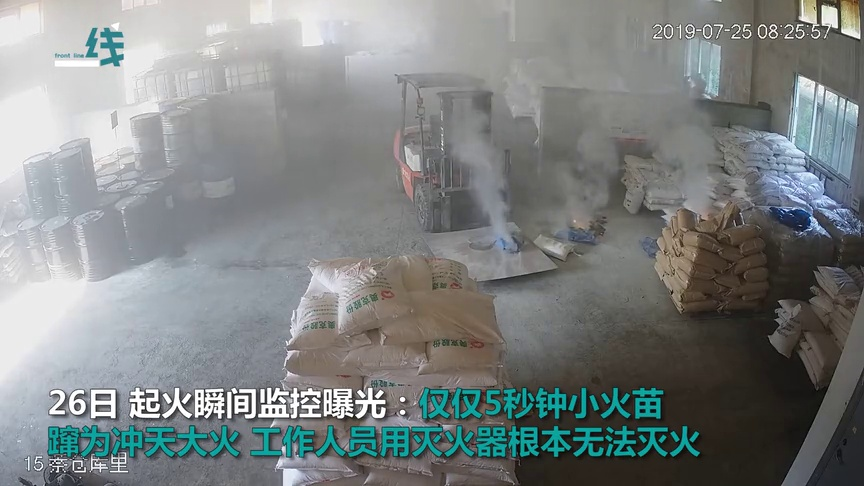smoke: (534, 117, 614, 224), (645, 82, 706, 206), (457, 111, 509, 236)
